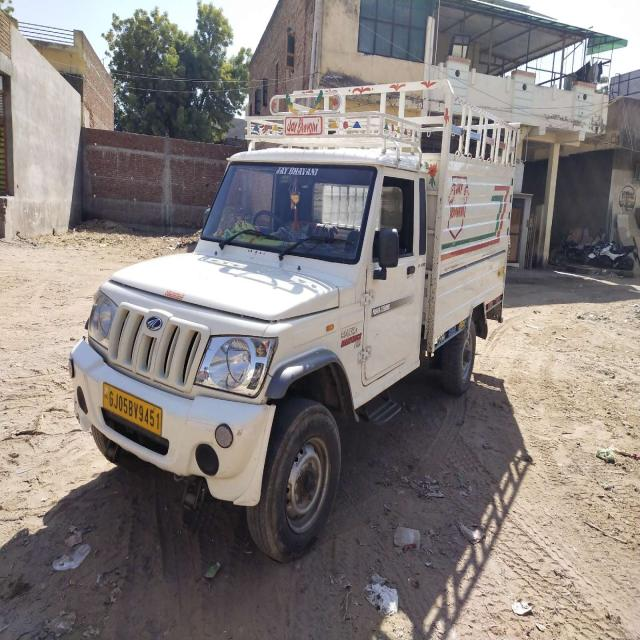light_vehicle: (66, 128, 532, 482)
